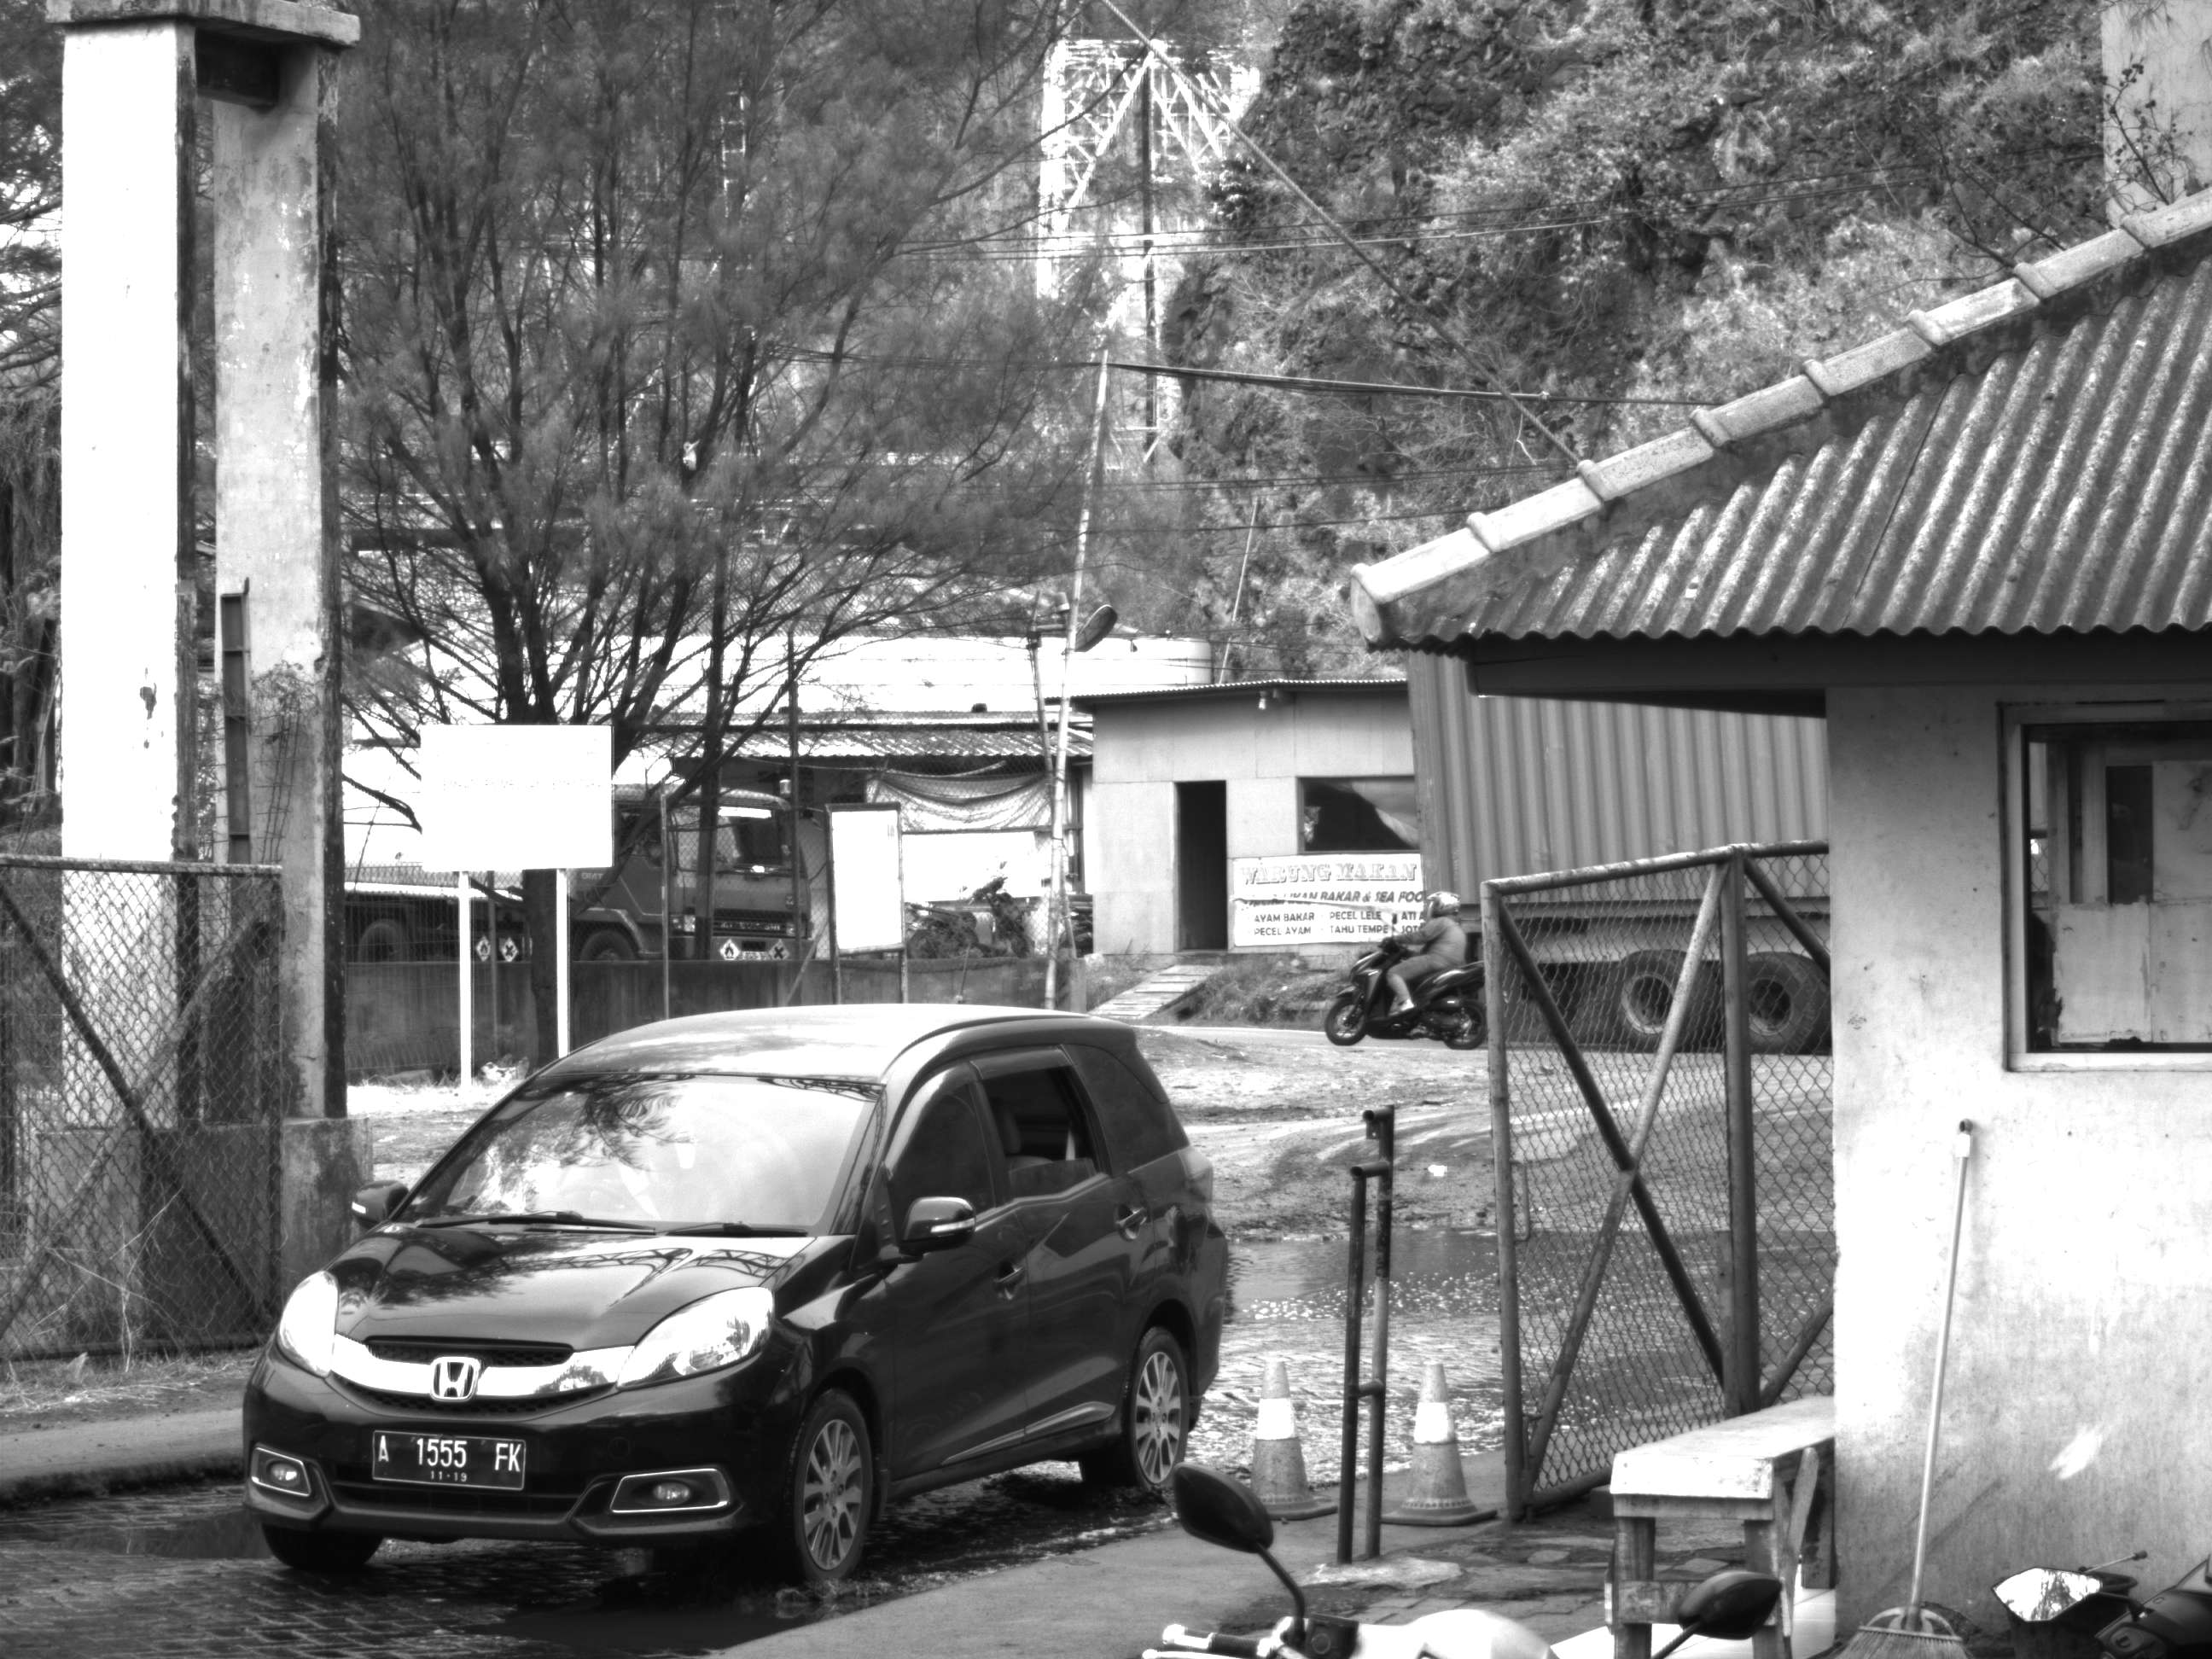day_small_front: (226, 1037, 912, 1582)
plate: (365, 1424, 533, 1502)
